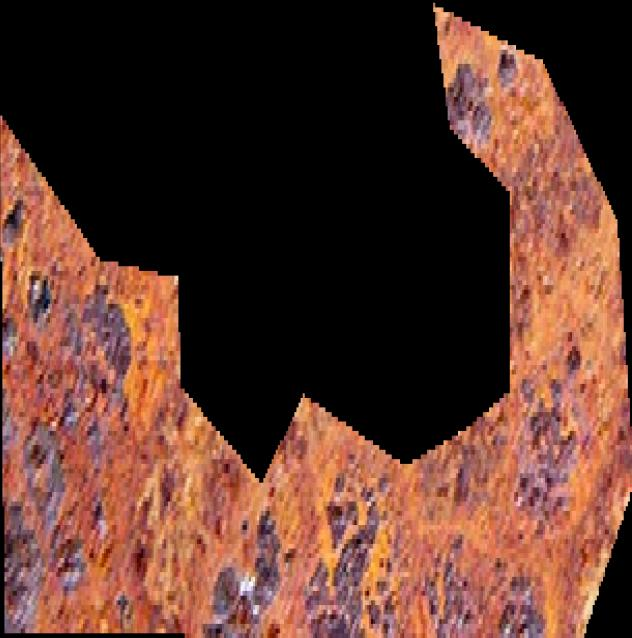Pitting Corrosion: (0, 1, 632, 638)
